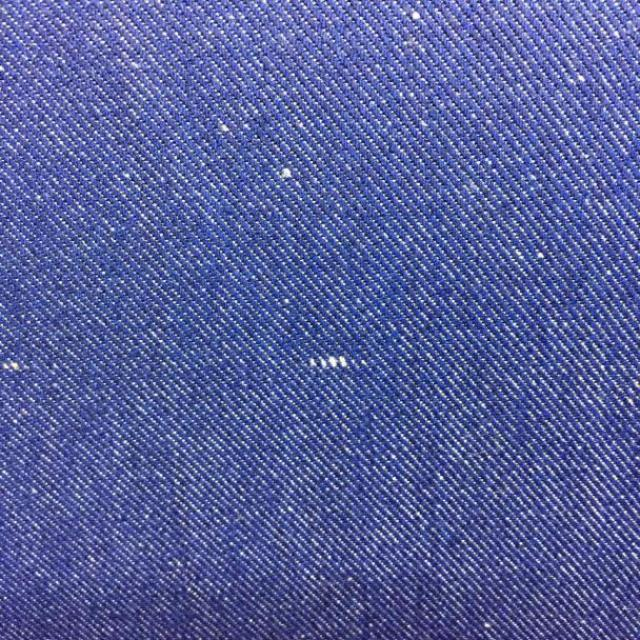Knot: (306, 355, 368, 371)
